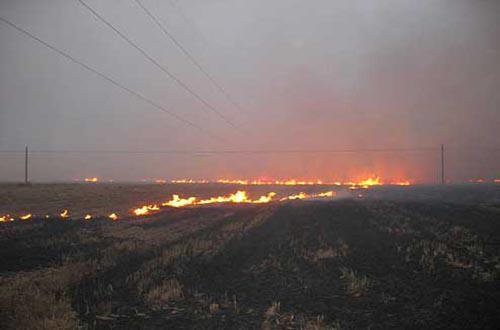fire: (77, 161, 413, 193), (120, 186, 339, 219), (1, 205, 116, 224)
